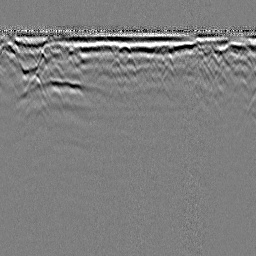cavity: (118, 41, 132, 55)
